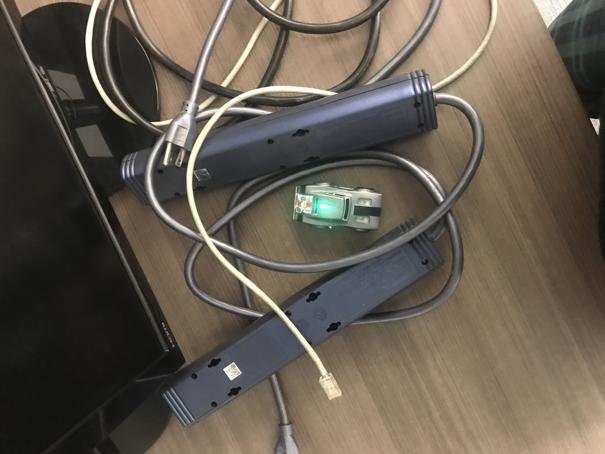Charger: (291, 180, 384, 236)
